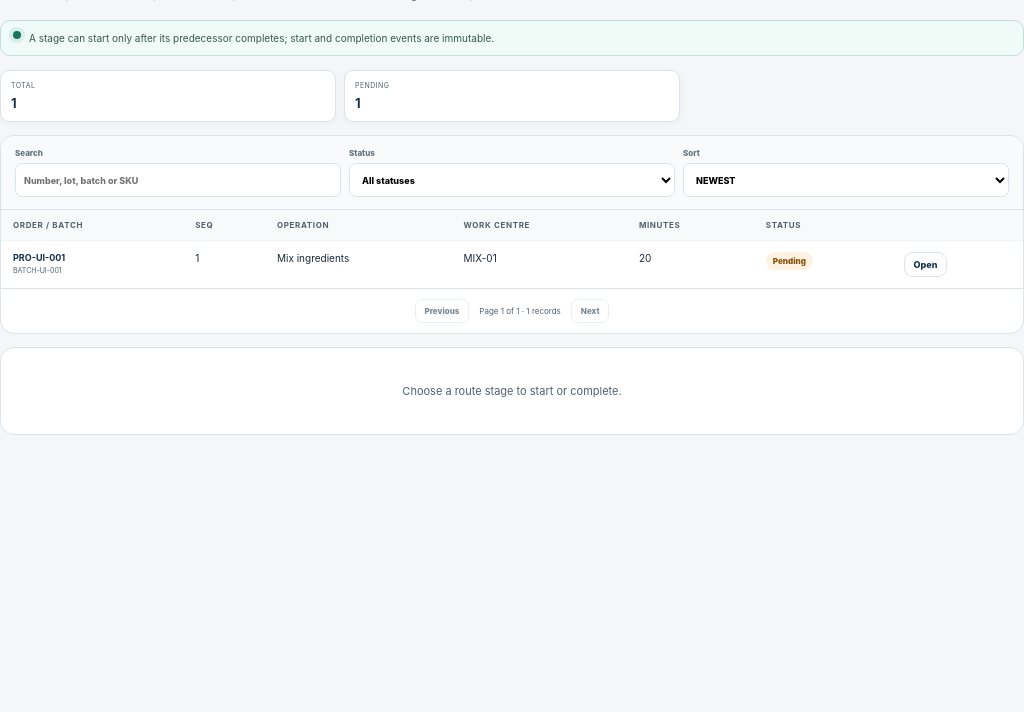
Test: production execution workspaces › starts and completes an ordered route stage with actual time
Click the button "Open" at [926, 265], box left=904, top=252, right=947, bottom=277
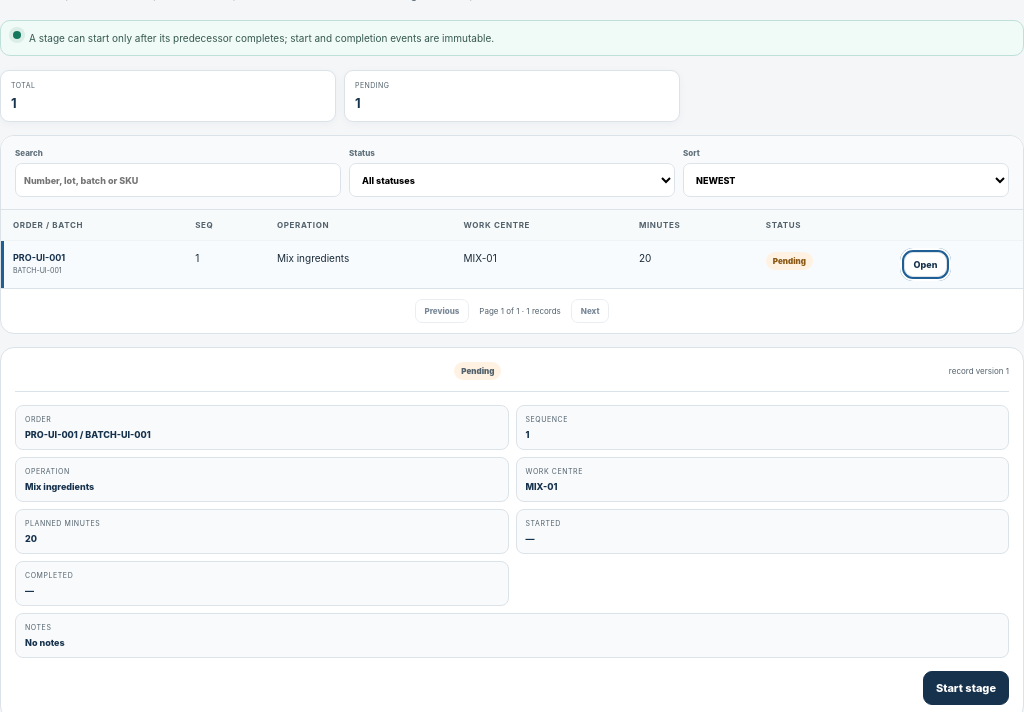
Click the button "Start stage" at [966, 688], box left=923, top=671, right=1009, bottom=705
(page scrolled)
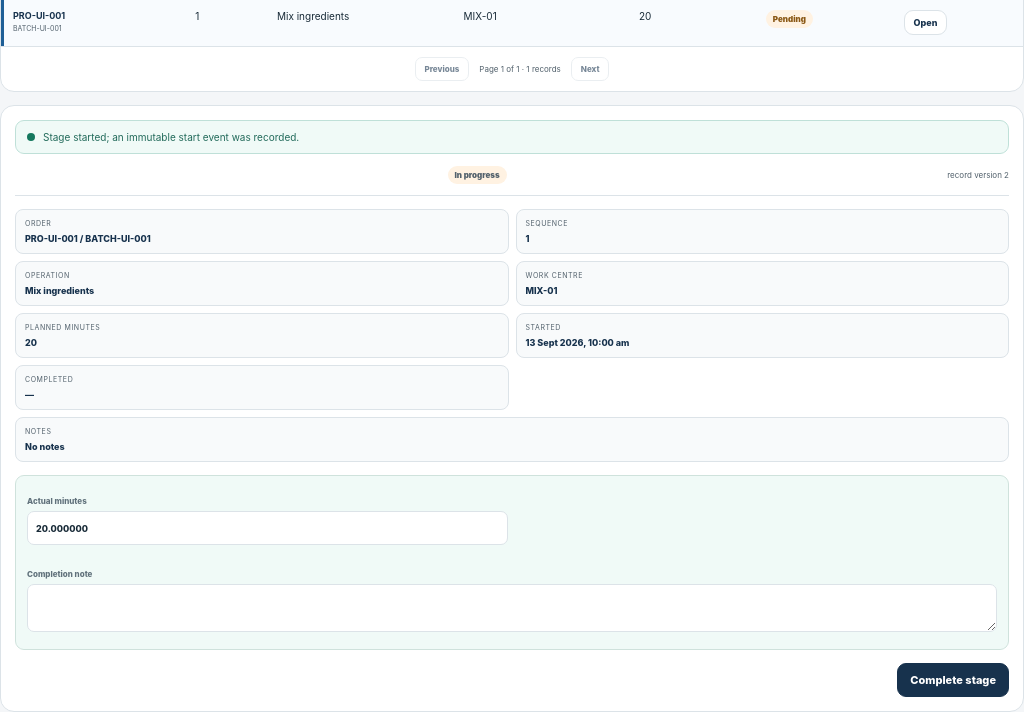
Replace the text in the number field labelled "Actual minutes" with "24" at [267, 528], box left=27, top=511, right=508, bottom=545
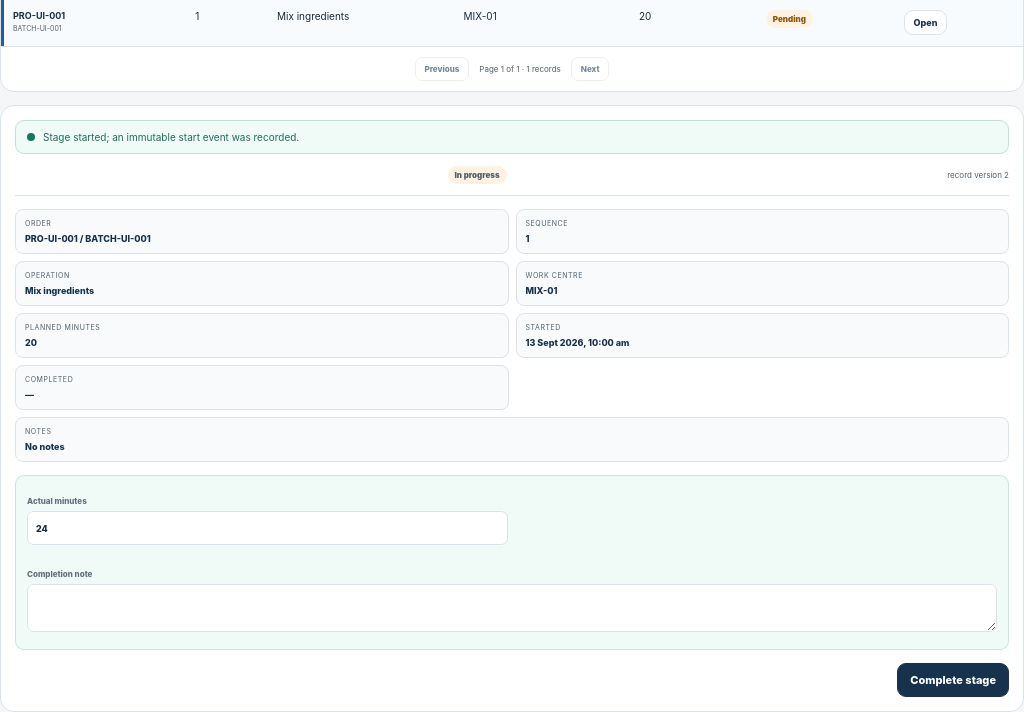
Click the button "Complete stage" at [953, 680], box left=897, top=663, right=1009, bottom=697
(page scrolled)
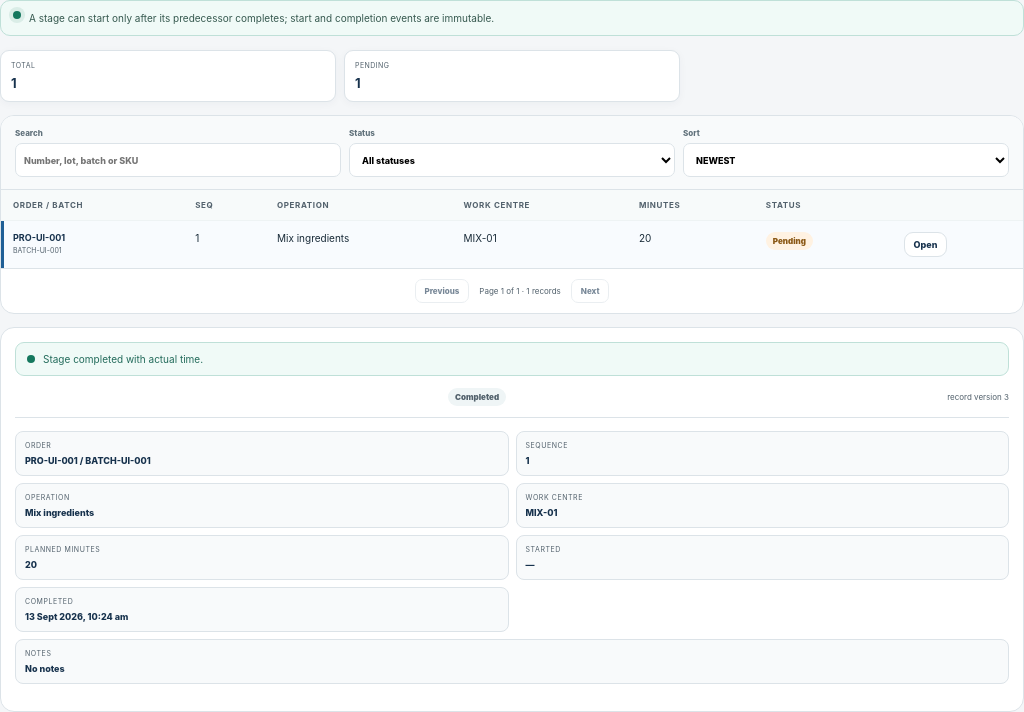
Result: the text "Stage completed with actual time." is shown at left=15, top=342, right=1009, bottom=376
